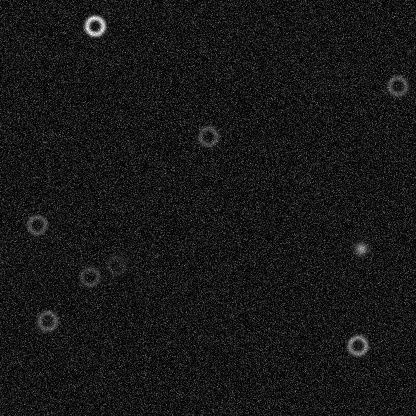Ring: (196, 124, 220, 148), (82, 13, 106, 37), (77, 264, 101, 288), (24, 212, 48, 236), (385, 73, 409, 97), (35, 308, 59, 332), (345, 333, 369, 357), (104, 253, 128, 277)
Spot: (352, 240, 368, 256)
